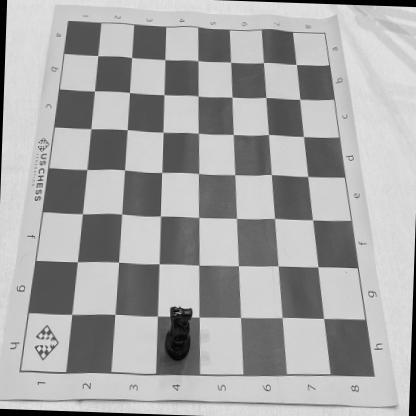knight: (164, 305, 193, 363)
